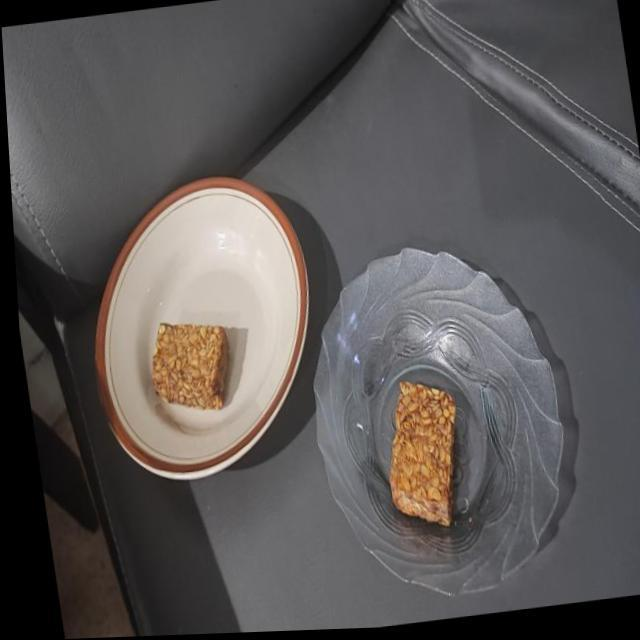tempe_goreng: (389, 380, 455, 526), (151, 322, 228, 408)
